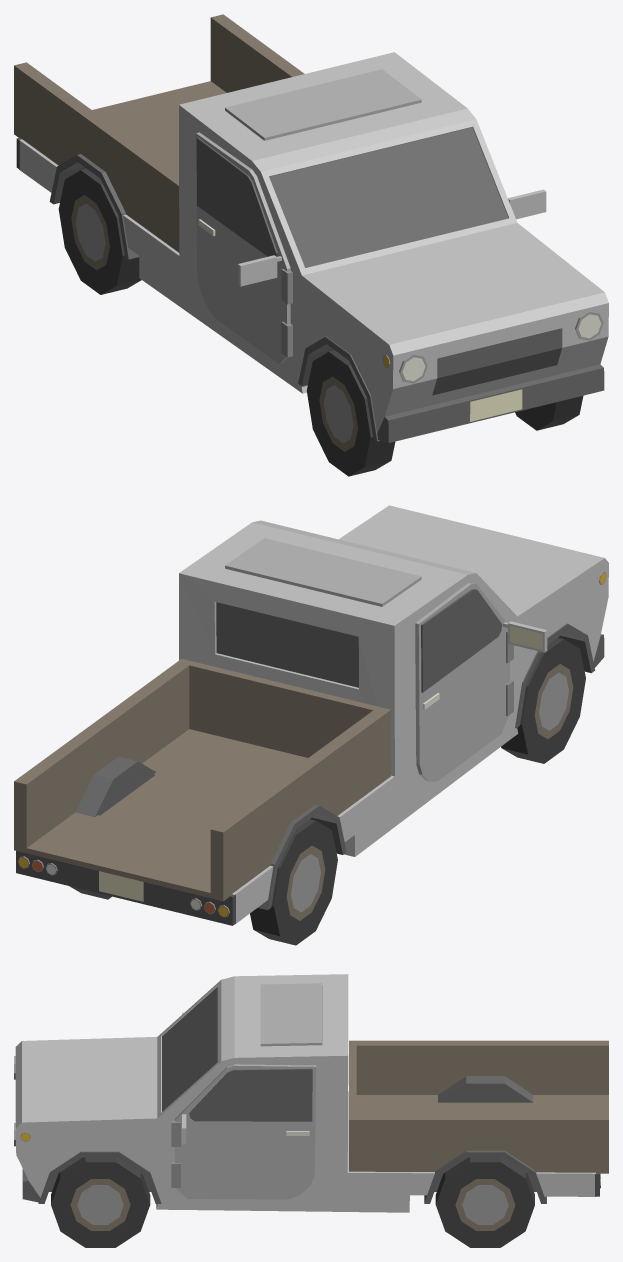
The model's file is kar4.fbx.
3 renders of one model, top to bottom at view 1: azimuth 30°, elevation 25°; view 2: azimuth 150°, elevation 25°; view 3: azimuth 270°, elevation 25°, orthographic. The views are drawn at different scales.
Parts seen in each view (by area): view 1: Boole_4, Cylinder_6, Cylinder_3, Cylinder_7; view 2: Boole_4, Cylinder_3, Cylinder_6; view 3: Boole_4, Cylinder_8, Cylinder_7.
Part boxes in pixels (x1,y1,x2,y2): Boole_4: (14, 14, 608, 442); Cylinder_6: (306, 350, 395, 476); Cylinder_3: (58, 169, 141, 294); Cylinder_7: (515, 396, 583, 430); Boole_4: (14, 505, 608, 925); Cylinder_3: (250, 819, 337, 945); Cylinder_6: (501, 638, 585, 763); Boole_4: (14, 974, 608, 1212); Cylinder_8: (435, 1157, 534, 1247); Cylinder_7: (51, 1157, 150, 1247).
Bounding box in the file's own units: 213 × 166 × 462.
